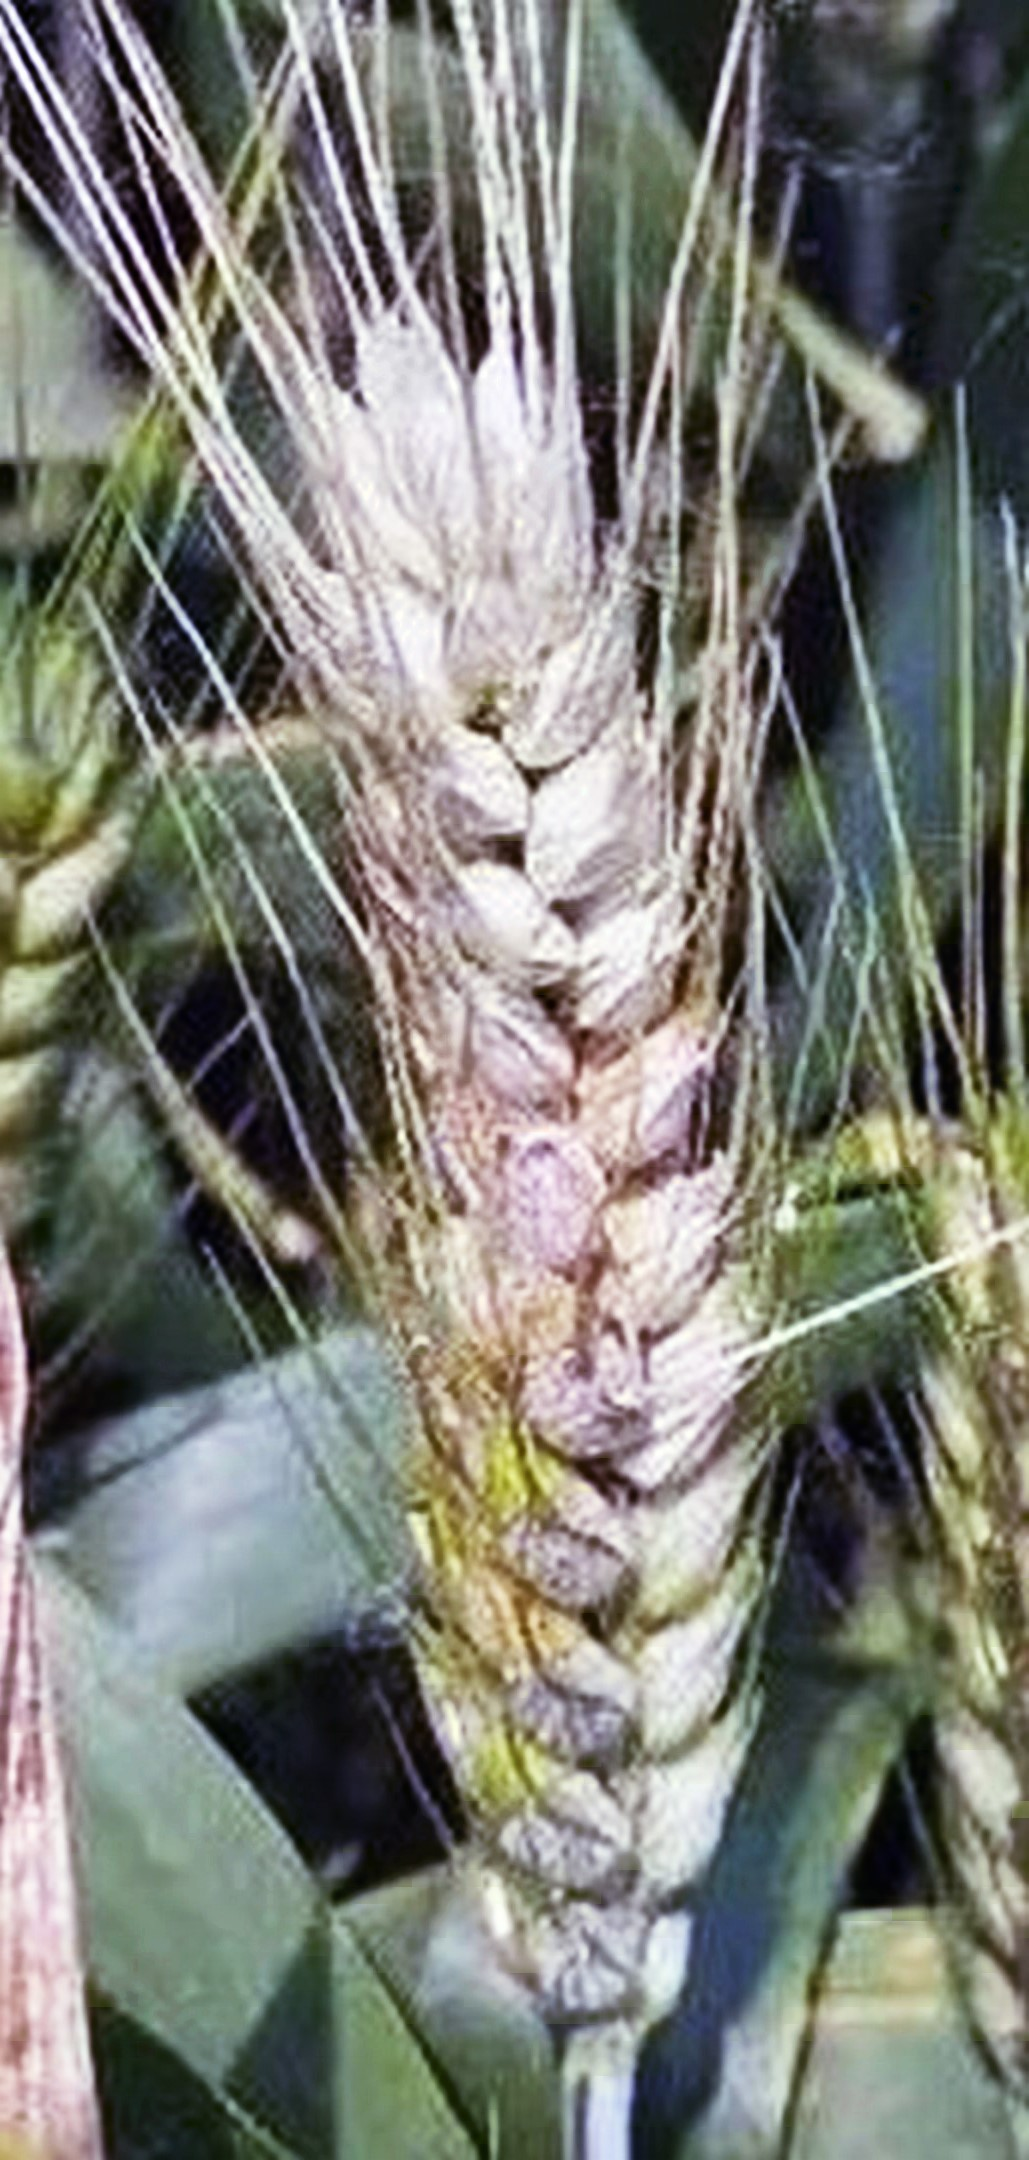Wheat scab: (236, 293, 798, 2017)
